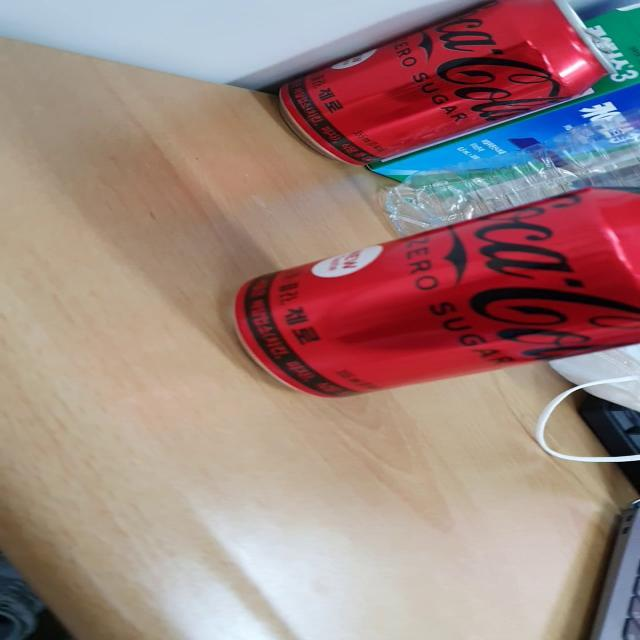coca-cola: (200, 176, 640, 414), (243, 0, 617, 168)
